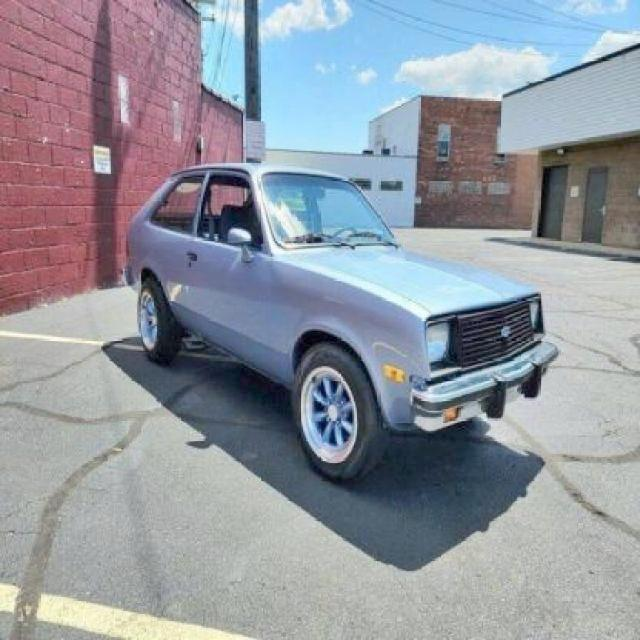car: (124, 165, 558, 484)
